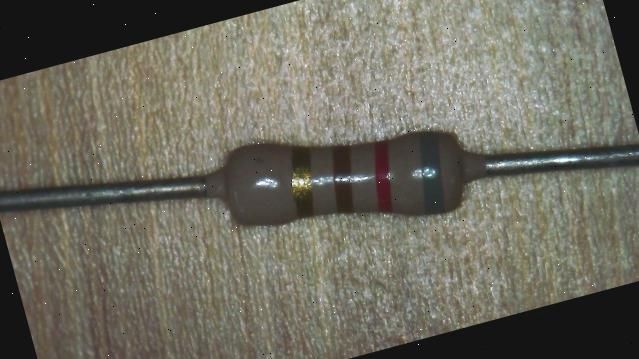brown: (321, 142, 362, 214)
gold: (280, 143, 323, 217)
grey: (405, 128, 456, 217)
red: (363, 136, 402, 216)
resistor: (194, 110, 491, 239)
